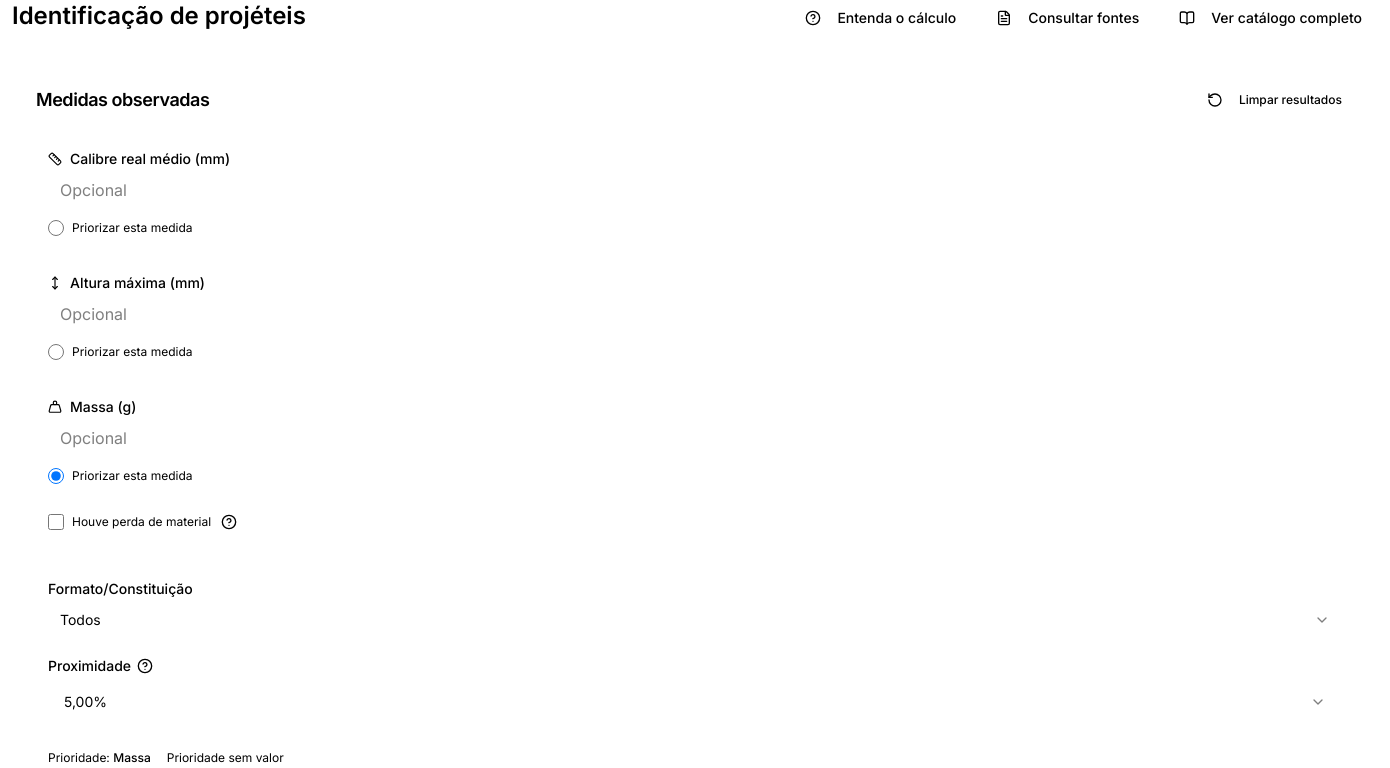
Test: página de projéteis com catálogo real › mostra .38 Curto CHOG em primeiro usando decimais com vírgula e as três medidas
In the field labelled "Calibre real médio (mm)": coordinates (695, 190) [48,172,1342,208], type "9"
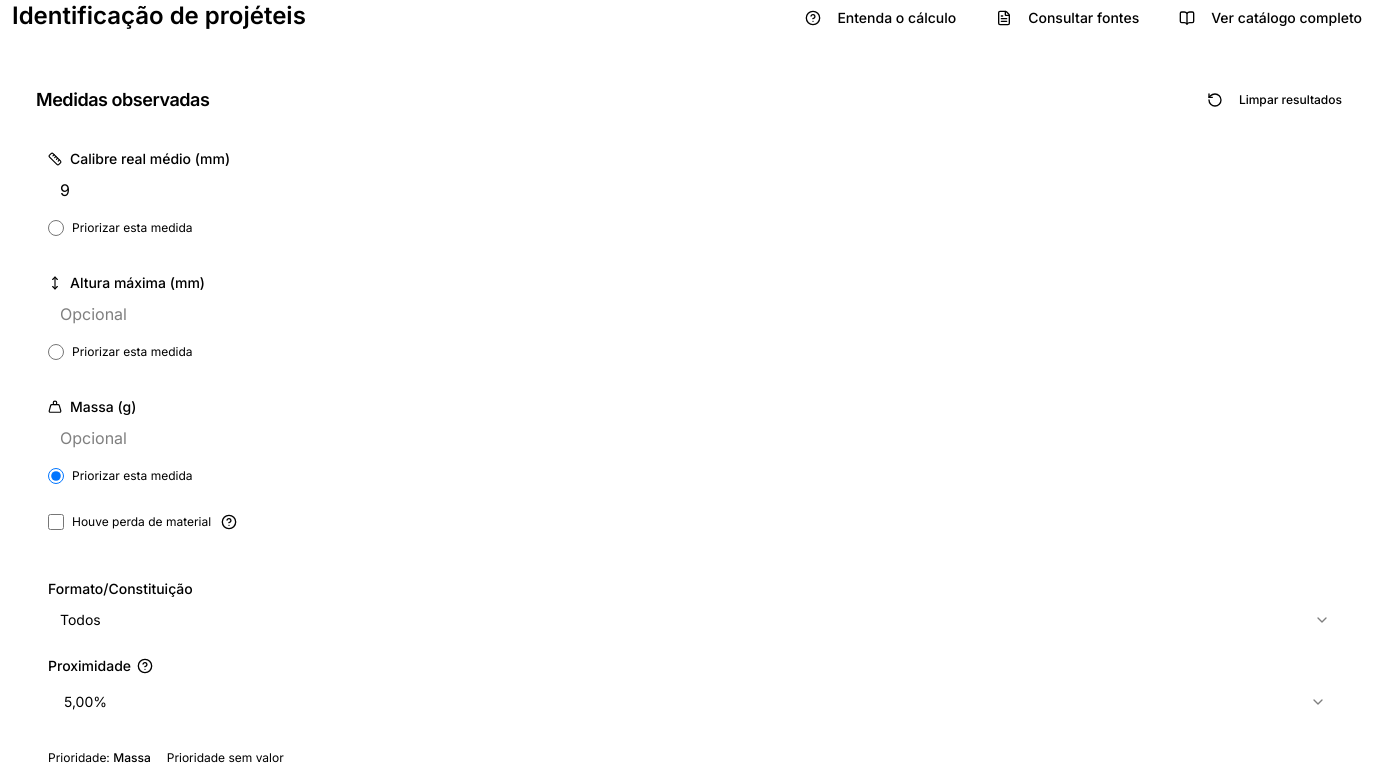
In the field labelled "Altura máxima (mm)": coordinates (695, 314) [48,296,1342,332], type "17,39"
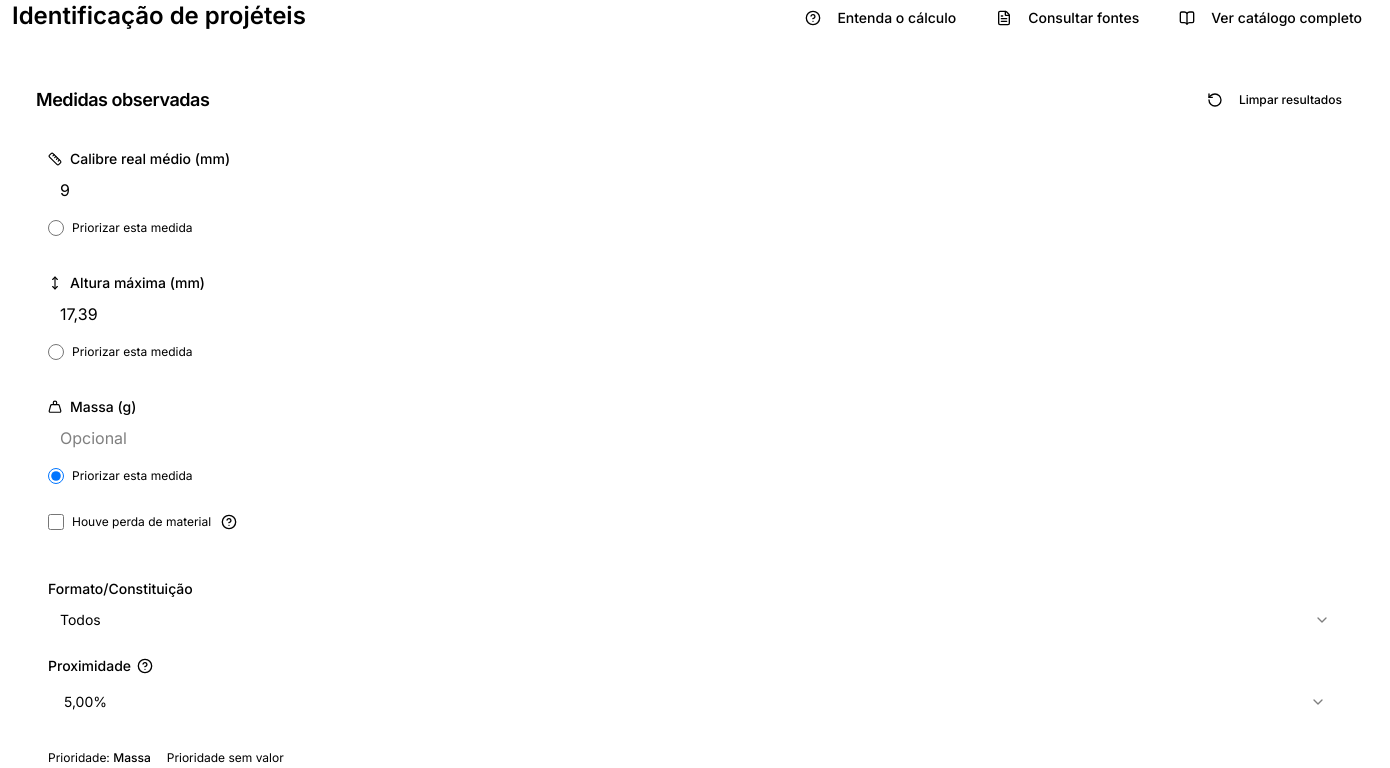
In the field labelled "Massa (g)": coordinates (695, 438) [48,420,1342,456], type "5,7"
(page scrolled)
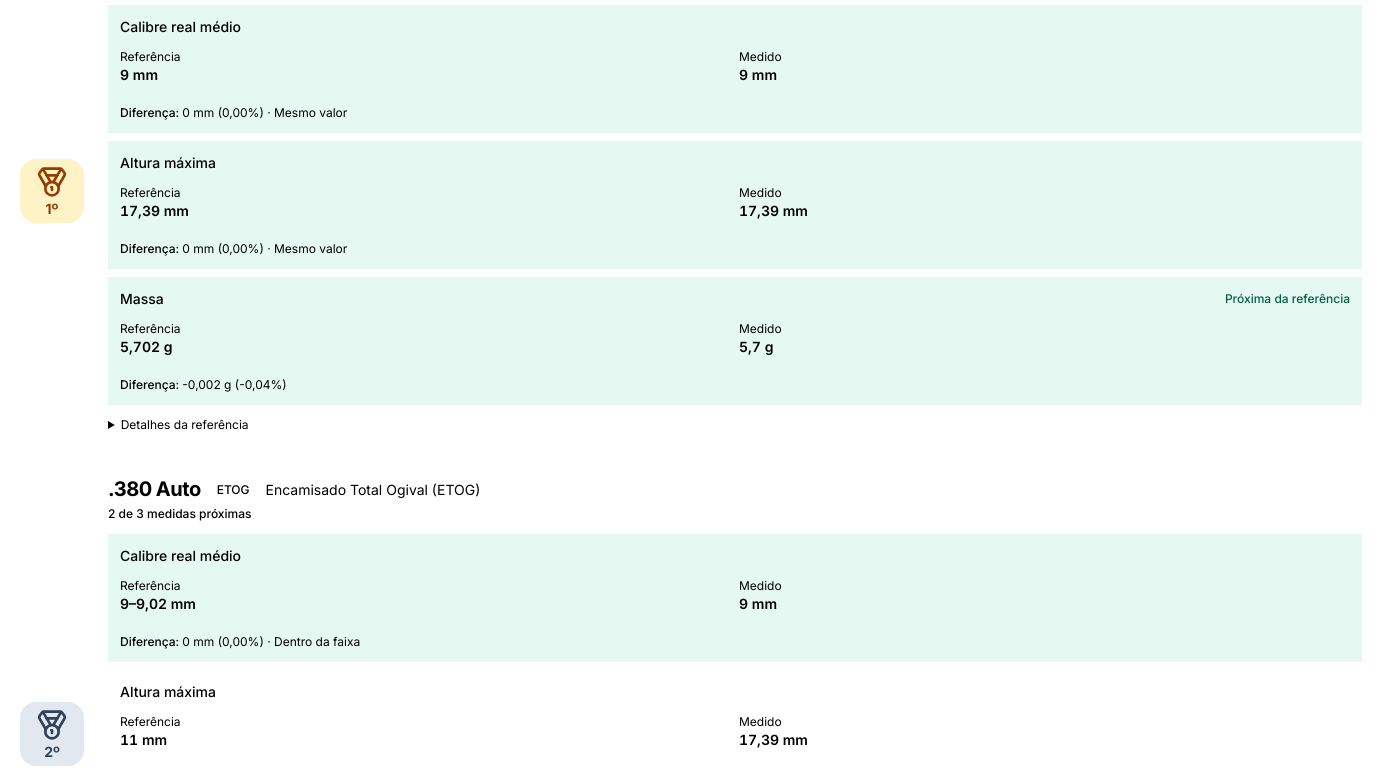
Expected: the text "-0,002 g (-0,04%)" is shown, [182,377,287,392]
